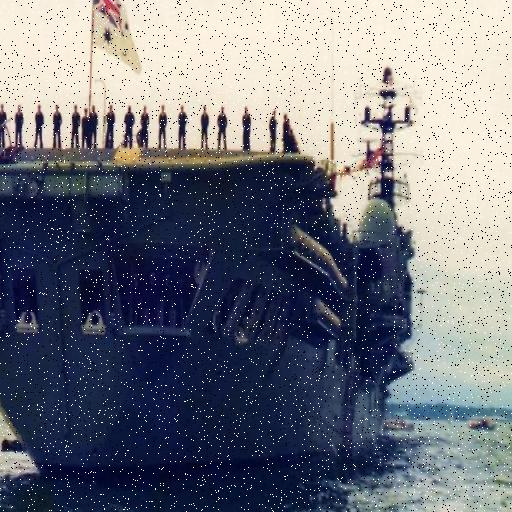Portanaves: (1, 1, 424, 485)
